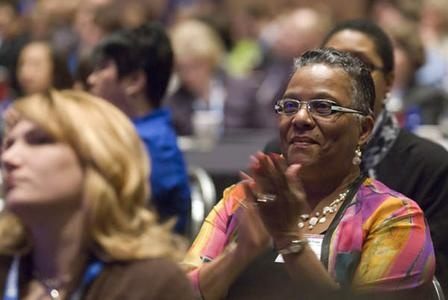person without safety: (198, 48, 439, 300)
